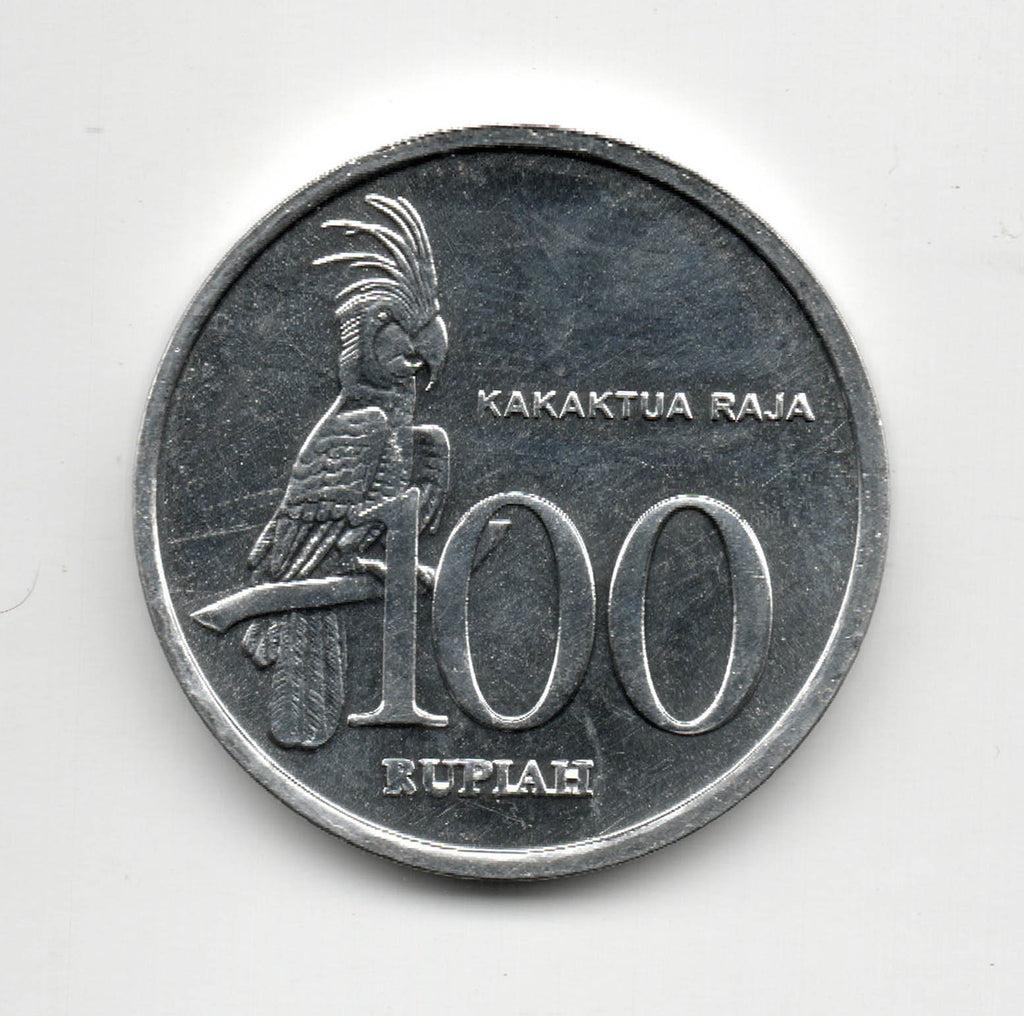coin_100_e1999: (122, 108, 896, 905)
